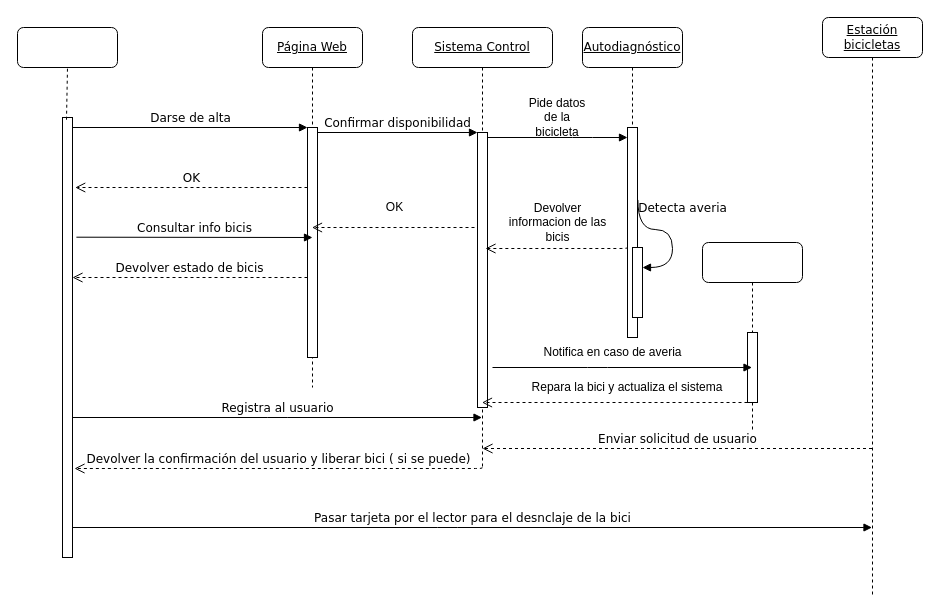
The diagram is 940 pixels wide and 615 high, and some of its shapes have lost their labels. The centre of each missing label's shape, as x and y in pixels:
"Técnico ayuntamineto" goes at (752,337).
"Usuarios" goes at (67,47).
